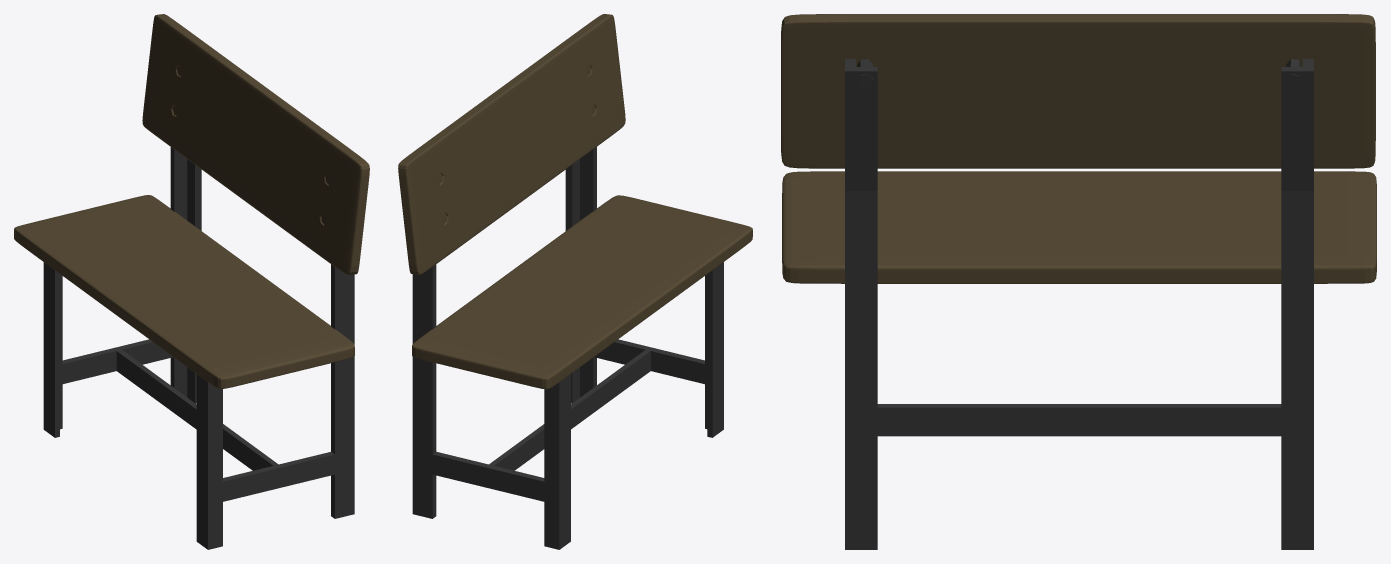
The model's file is classroom_chair.glb.
3 views of the same model, side by side, from view 1: azimuth 30°, elevation 25°; view 2: azimuth 150°, elevation 25°; view 3: azimuth 270°, elevation 25° (orthographic). The views are drawn at different scales.
Parts seen in each view (by area): view 1: Cube.006, Cube.001; view 2: Cube.006, Cube.001; view 3: Cube.006, Cube.001.
Boxes of the visible parts, x1,y1,x2,y2 form: Cube.006: (14,14,369,388); Cube.001: (43,147,354,549); Cube.006: (398,14,752,389); Cube.001: (412,147,723,549); Cube.006: (781,14,1376,283); Cube.001: (845,58,1313,549).
Bounding box in the file's own units: 1.01 × 2.13 × 2.19.
